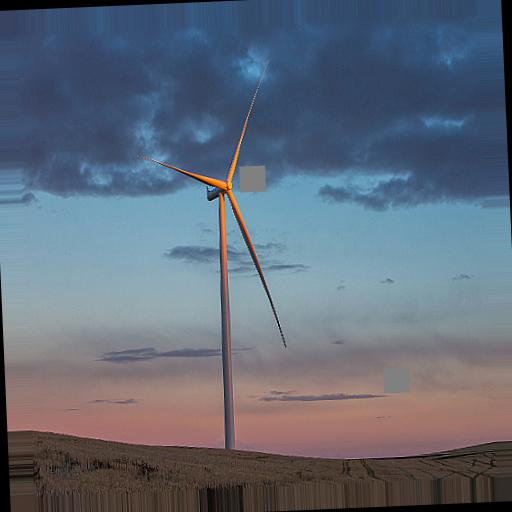wind turbine: (140, 59, 290, 454)
